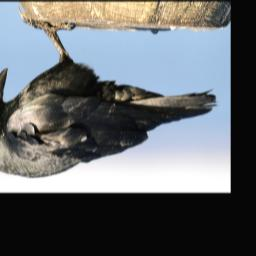Crow: (0, 6, 220, 179)
